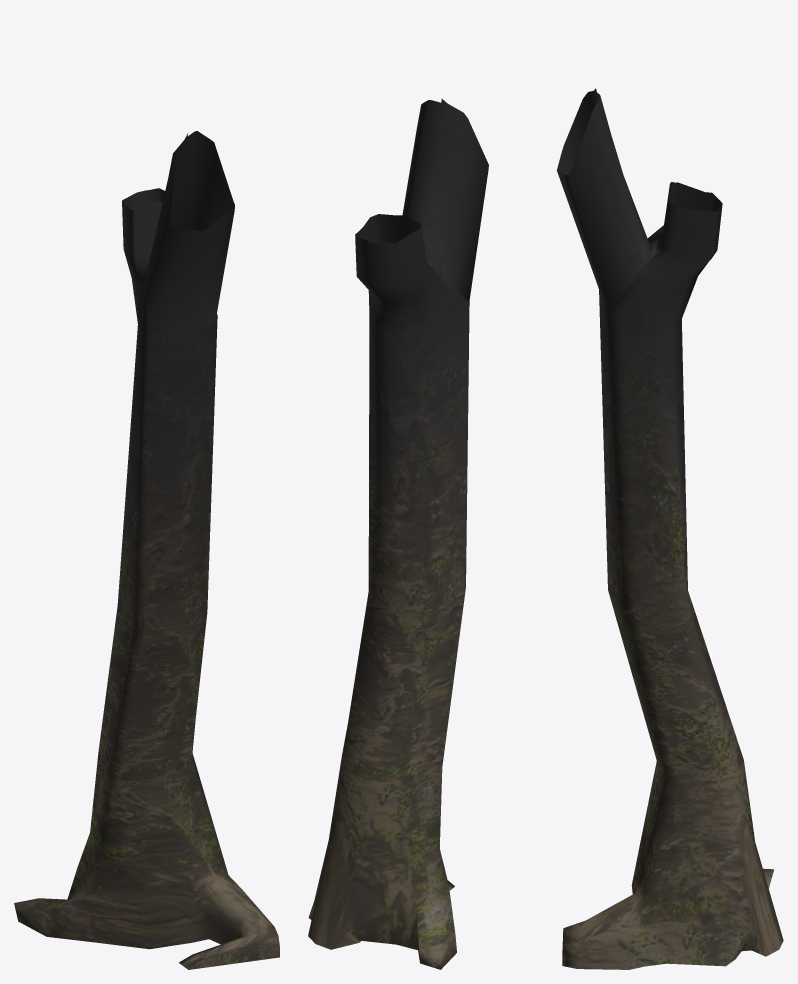
The model's file is Tree3.fbx.
3 renders of one model, left to right at view 1: azimuth 30°, elevation 25°; view 2: azimuth 150°, elevation 25°; view 3: azimuth 270°, elevation 25°, orthographic. The views are drawn at different scales.
Visible parts, largest first — view 1: Tree3; view 2: Tree3; view 3: Tree3.
Boxes of the visible parts, x1=… form: Tree3: x1=14, y1=131, x2=279, y2=969; Tree3: x1=308, y1=98, x2=488, y2=969; Tree3: x1=556, y1=88, x2=783, y2=969.
Size of the model in its own units: 1.7 by 8.56 by 2.25.
1 material, 1 textured.
